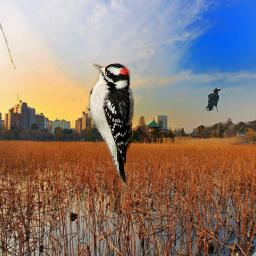Crow: (205, 88, 221, 111)
Woodpecker: (86, 63, 134, 185)
